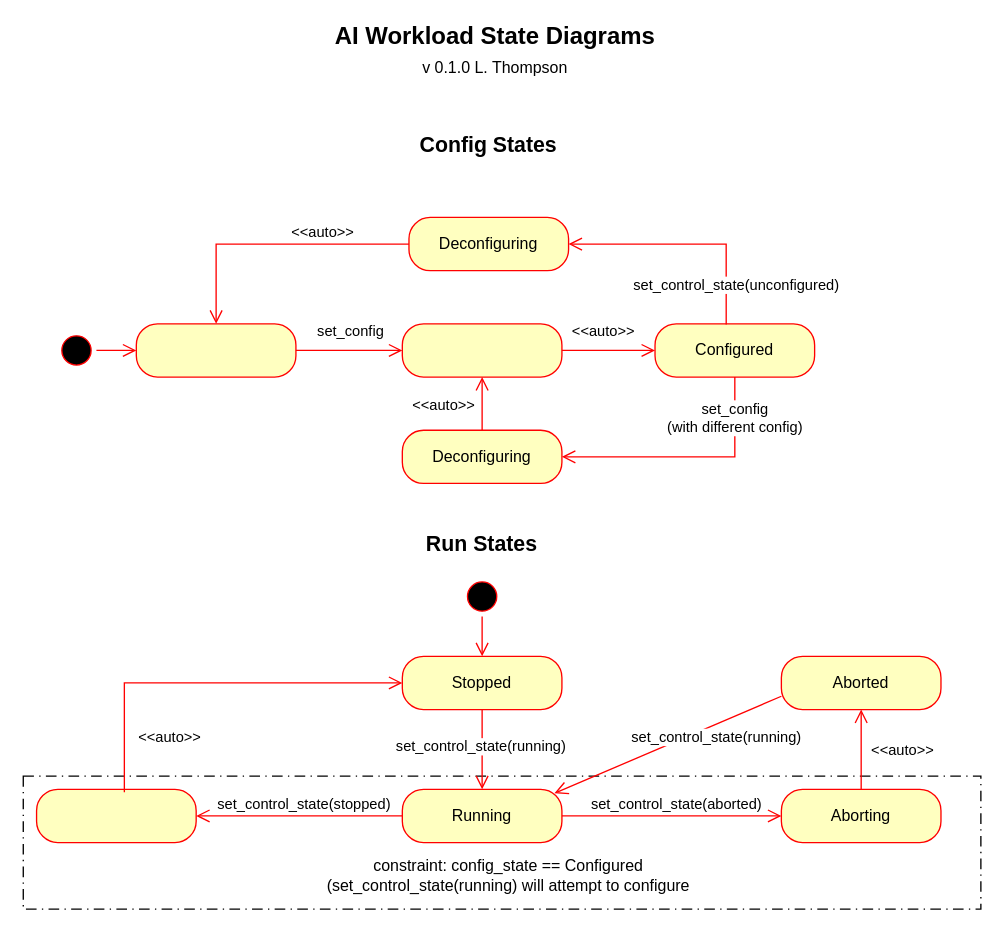
Some shapes in this 1004 by 932 pixel diagram are drawn without their labels. Each missing label, with the box of its shape:
Configuring: (401, 323, 562, 377)
Stopping: (35, 788, 196, 843)
Unconfigured: (135, 323, 296, 377)
